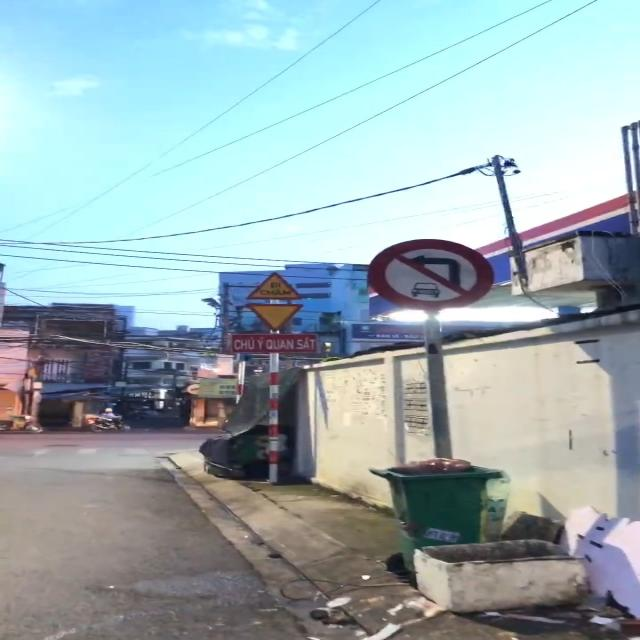Bien bao di cham: (240, 269, 306, 301)
Bien bao giao nhau voi duong uu tien: (238, 302, 316, 334)
